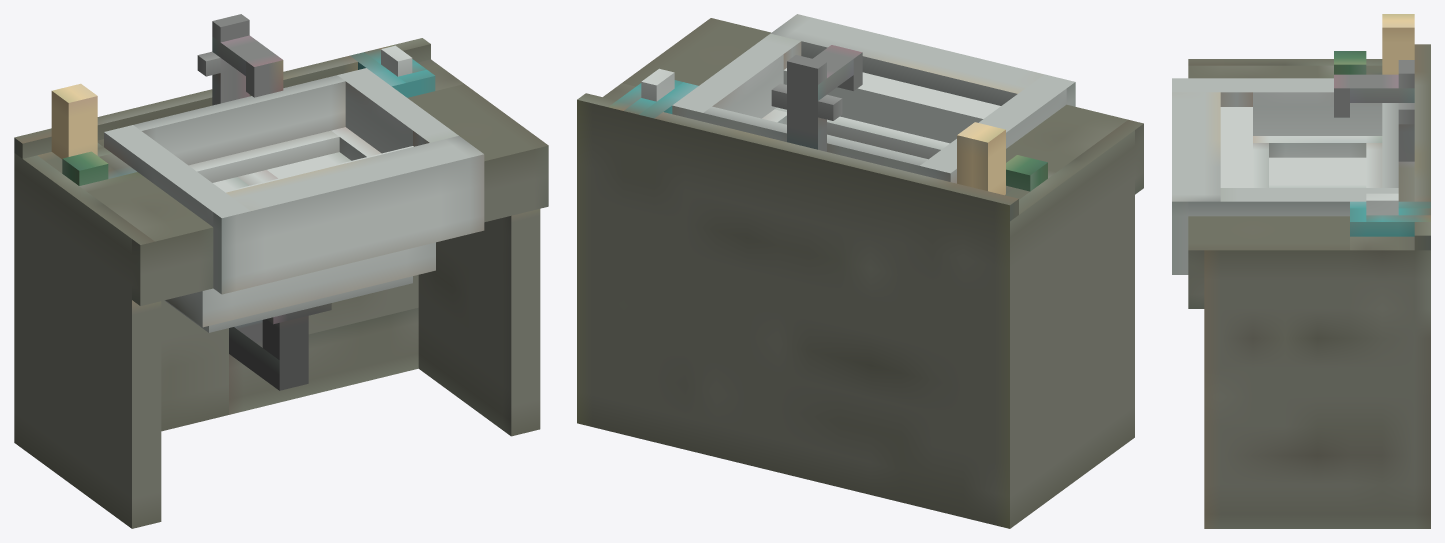
Rendered from BathroomSink_00.obj.
3 renders of one model, left to right at view 1: azimuth 30°, elevation 25°; view 2: azimuth 150°, elevation 25°; view 3: azimuth 270°, elevation 25°, orthographic. The views are drawn at different scales.
Parts seen in each view (by area): view 1: BathroomSink_00; view 2: BathroomSink_00; view 3: BathroomSink_00.
Part boxes in pixels (x1,y1,x2,y2): BathroomSink_00: (14,14,548,528); BathroomSink_00: (577,14,1143,528); BathroomSink_00: (1172,14,1430,528).
Size of the model in its own units: 1.4 by 1.25 by 0.8.
